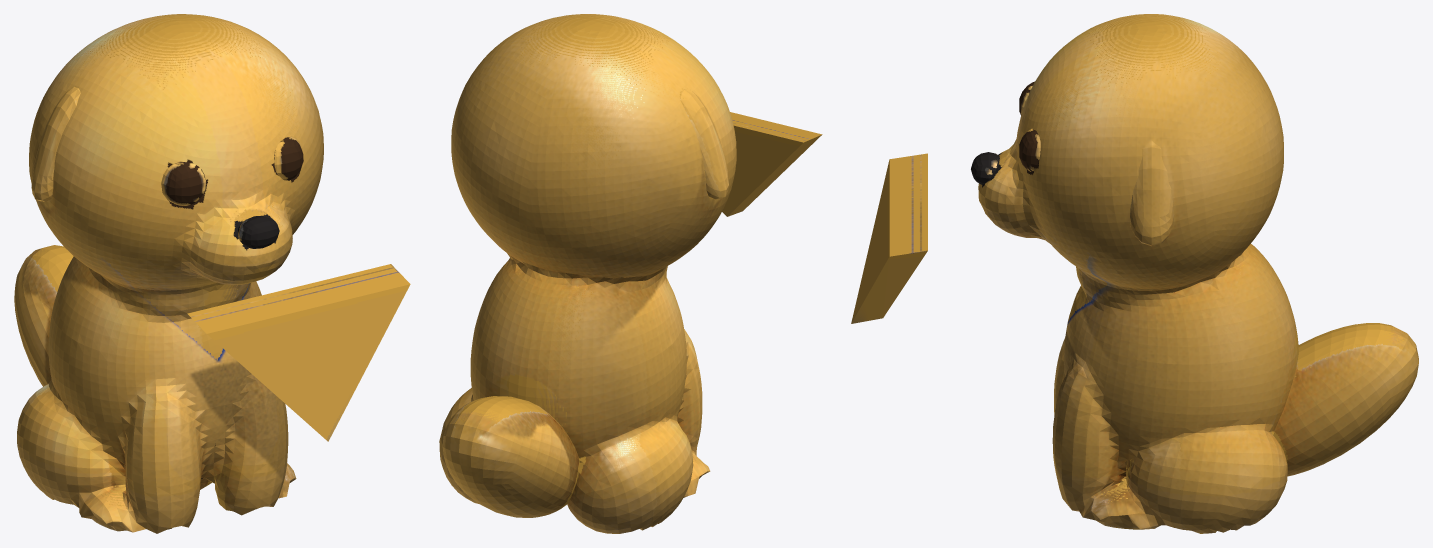
Rendered from figure.glb.
The picture shows the model from 3 angles, left to right: view 1: azimuth 30°, elevation 25°; view 2: azimuth 150°, elevation 25°; view 3: azimuth 270°, elevation 25°; orthographic projection. The views are drawn at different scales.
Visible parts, largest first — view 1: figure; view 2: figure; view 3: figure.
Part boxes in pixels (<box>): figure: <box>14,14,410,533</box>; figure: <box>439,14,822,533</box>; figure: <box>851,14,1418,533</box>.
Size of the model in its own units: 50.33 by 80.06 by 89.59.
Materials: 1 (1 with a texture image).
